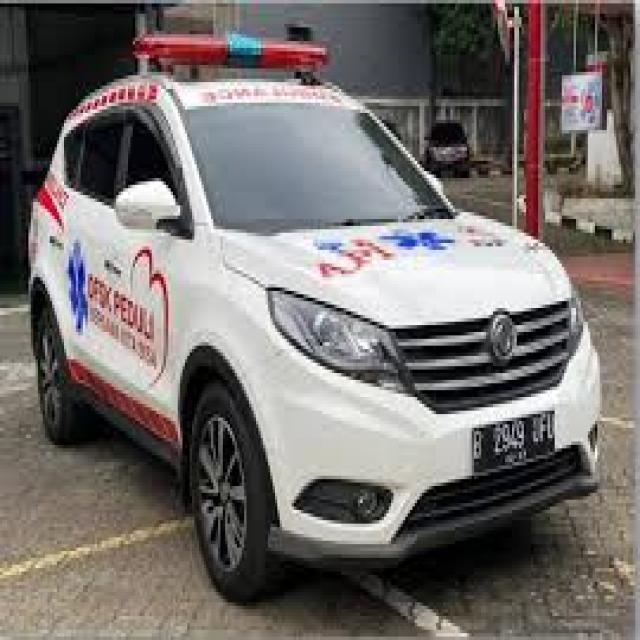emergency-vehicle: (24, 24, 602, 602)
